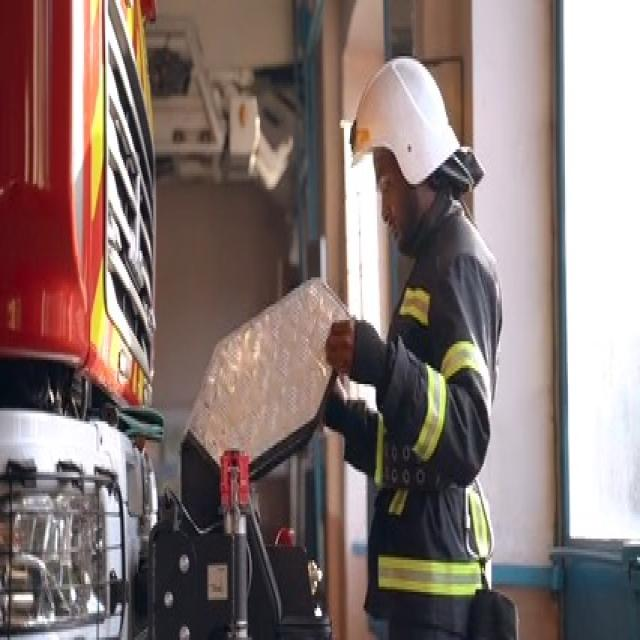Helmet_Wearer: (348, 47, 472, 257)
Jacket_Wearer: (346, 206, 512, 608)
Person: (330, 41, 512, 640)
